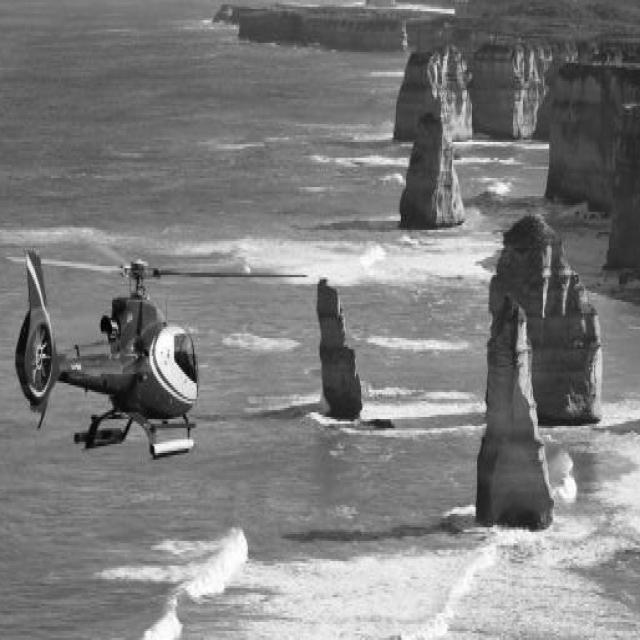helicopter: (1, 230, 306, 484)
